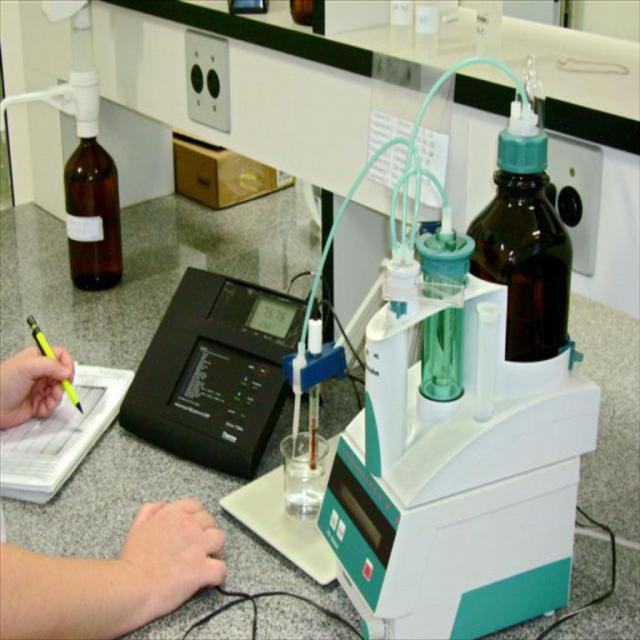Box: (172, 136, 296, 210)
